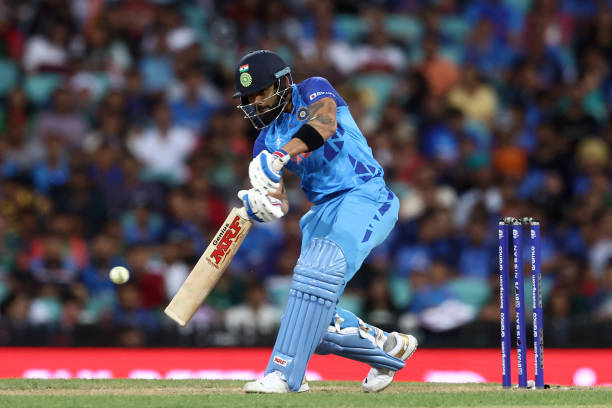bottom left: (155, 304, 176, 322)
bottom right: (172, 314, 194, 339)
top left: (223, 200, 243, 217)
top right: (241, 213, 258, 232)
